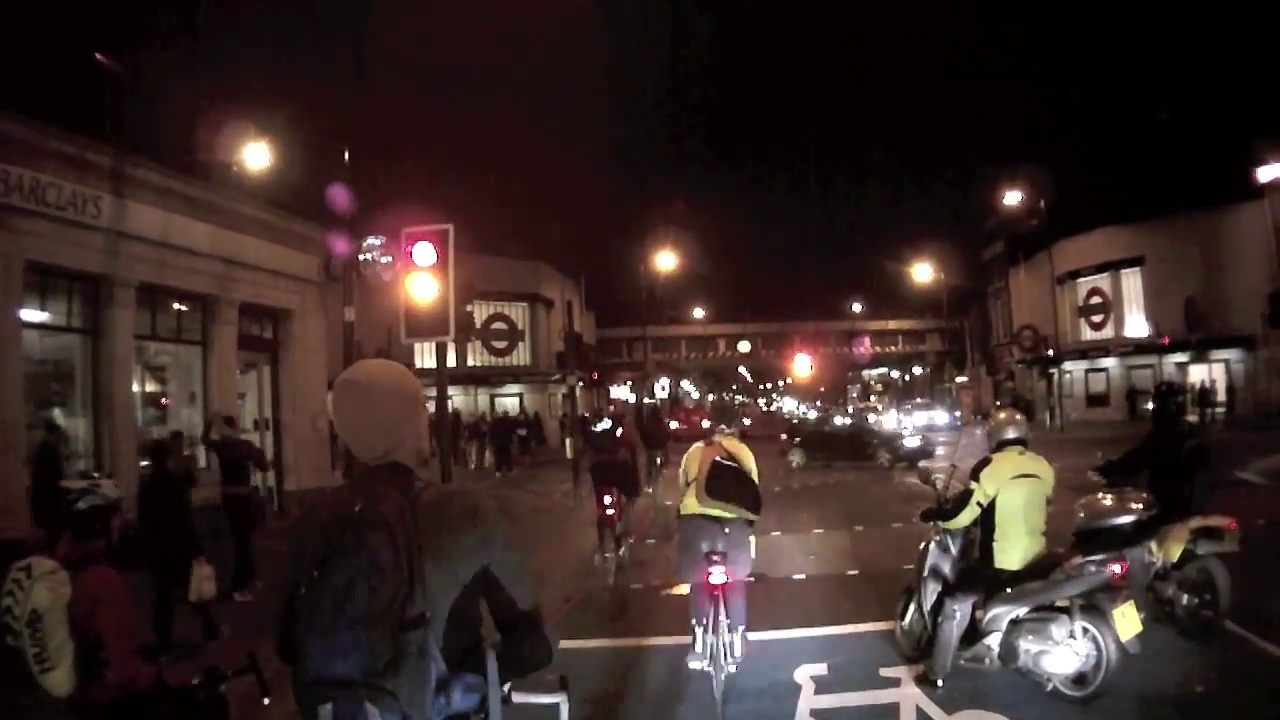cyclist_back: (670, 416, 759, 708), (582, 405, 646, 585)
cyclist_side: (889, 411, 1125, 696)
